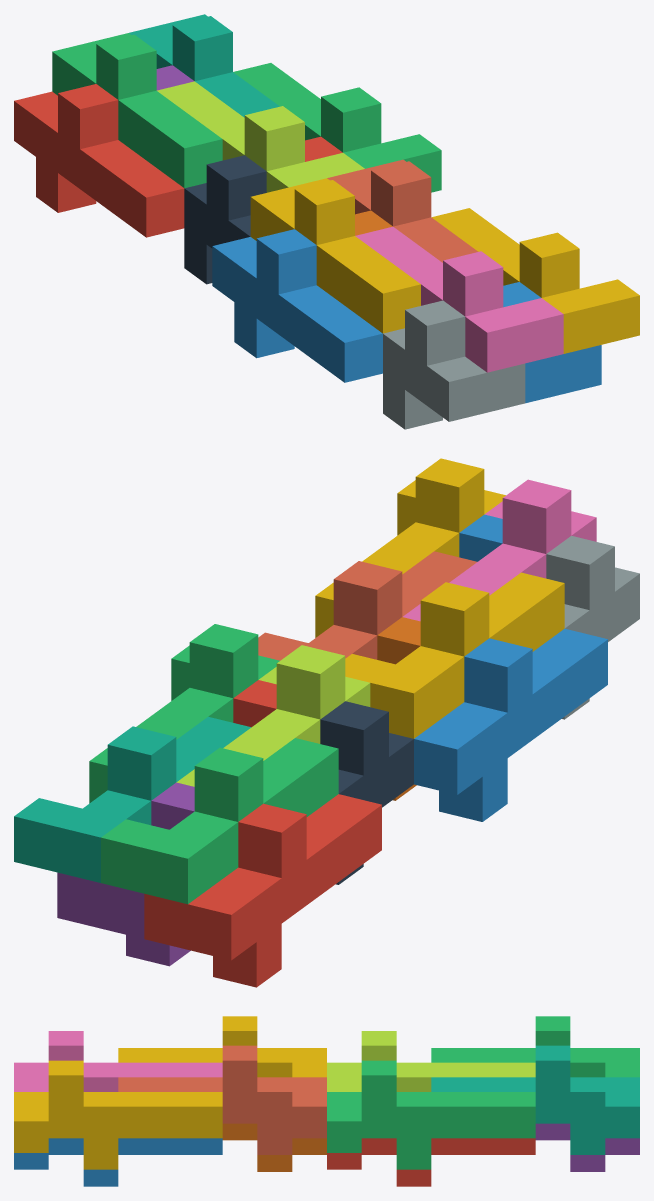
The model's file is tiling.obj.
3 views of the same model, one above another, from view 1: azimuth 30°, elevation 25°; view 2: azimuth 150°, elevation 25°; view 3: azimuth 270°, elevation 25° (orthographic). The views are drawn at different scales.
Visible parts, largest first — view 1: copy_1_domain_1, copy_1_domain_2, copy_2_domain_2, copy_2_domain_4, copy_1_domain_4, copy_1_domain_3, copy_2_domain_8, copy_2_domain_7, copy_2_domain_3, copy_2_domain_1, copy_1_domain_8, copy_1_domain_7 (+4 smaller); view 2: copy_1_domain_1, copy_1_domain_2, copy_1_domain_3, copy_1_domain_4, copy_1_domain_7, copy_1_domain_8, copy_2_domain_7, copy_2_domain_8, copy_2_domain_4, copy_2_domain_3, copy_2_domain_1, copy_2_domain_2 (+4 smaller); view 3: copy_2_domain_7, copy_2_domain_8, copy_1_domain_7, copy_1_domain_8, copy_2_domain_3, copy_2_domain_4, copy_1_domain_3, copy_1_domain_4, copy_2_domain_5, copy_2_domain_6, copy_1_domain_5, copy_1_domain_6.
Boxes of the visible parts, x1,y1,x2,y2 form: copy_1_domain_1: [14, 84, 184, 237]; copy_1_domain_2: [212, 229, 382, 382]; copy_2_domain_2: [383, 300, 525, 429]; copy_2_domain_4: [355, 226, 563, 372]; copy_1_domain_4: [250, 178, 420, 333]; copy_1_domain_3: [52, 33, 222, 188]; copy_2_domain_8: [432, 208, 639, 353]; copy_2_domain_7: [233, 63, 441, 192]; copy_2_domain_3: [157, 81, 364, 192]; copy_2_domain_1: [184, 155, 266, 284]; copy_1_domain_8: [327, 159, 478, 262]; copy_1_domain_7: [129, 14, 279, 117]; copy_1_domain_1: [144, 794, 381, 987]; copy_1_domain_2: [414, 628, 607, 821]; copy_1_domain_3: [101, 738, 338, 904]; copy_1_domain_4: [345, 572, 564, 738]; copy_1_domain_7: [14, 716, 250, 882]; copy_1_domain_8: [258, 551, 476, 660]; copy_2_domain_7: [89, 624, 279, 803]; copy_2_domain_8: [315, 458, 505, 637]; copy_2_domain_4: [403, 479, 596, 621]; copy_2_domain_3: [176, 645, 370, 786]; copy_2_domain_1: [320, 701, 413, 884]; copy_2_domain_2: [546, 536, 639, 719]; copy_2_domain_7: [327, 1060, 535, 1169]; copy_2_domain_8: [14, 1060, 222, 1169]; copy_1_domain_7: [431, 1045, 639, 1154]; copy_1_domain_8: [118, 1045, 326, 1154]; copy_2_domain_3: [327, 1031, 535, 1091]; copy_2_domain_4: [14, 1031, 222, 1091]; copy_1_domain_3: [431, 1016, 639, 1077]; copy_1_domain_4: [118, 1016, 326, 1077]; copy_2_domain_5: [327, 1138, 535, 1186]; copy_2_domain_6: [14, 1138, 222, 1186]; copy_1_domain_5: [535, 1123, 639, 1171]; copy_1_domain_6: [222, 1123, 326, 1171].
Bounding box in the file's own units: 6 × 4 × 18.
